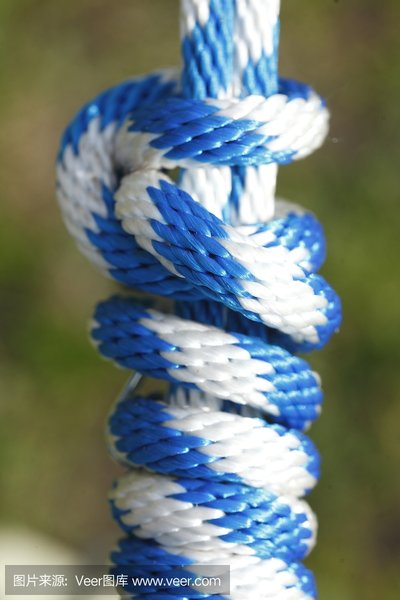9/可回收垃圾/绳子: (51, 1, 344, 600)
